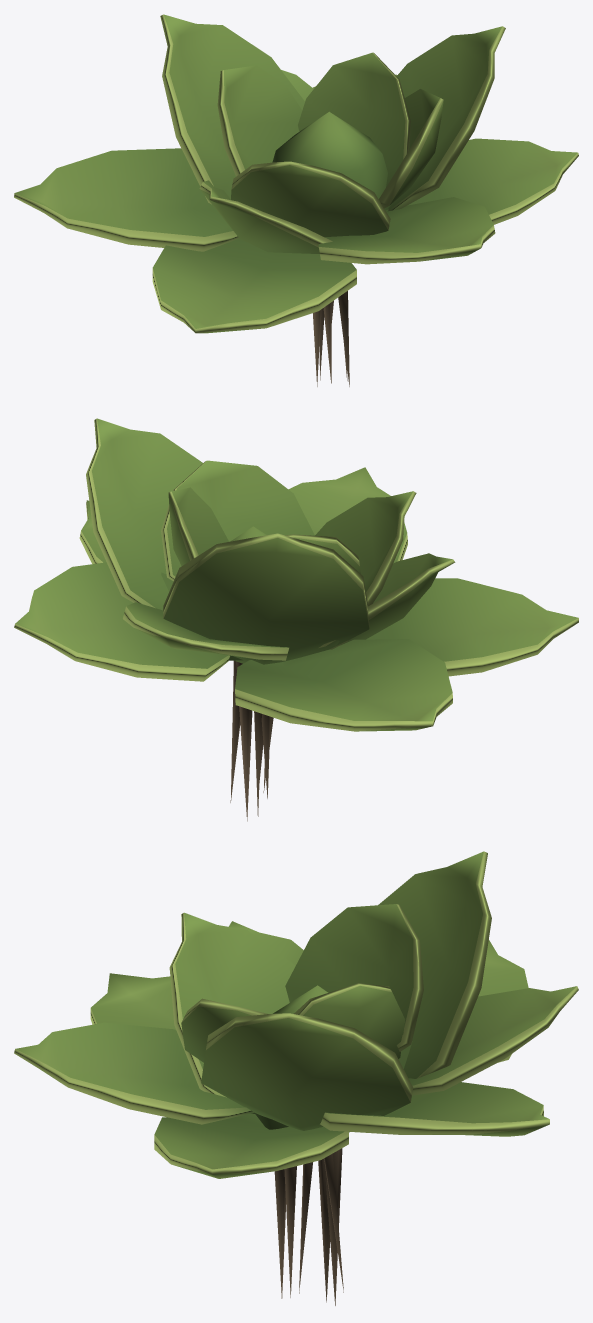
Rendered from plants-cacti-succulents-green-rosette_v3.glb.
3 views of the same model, one above another, from view 1: azimuth 30°, elevation 25°; view 2: azimuth 150°, elevation 25°; view 3: azimuth 270°, elevation 25° (orthographic). The views are drawn at different scales.
Parts seen in each view (by area): view 1: Green Rosette_v3; view 2: Green Rosette_v3; view 3: Green Rosette_v3.
Boxes of the visible parts, bbox=[...] form: Green Rosette_v3: bbox=[14, 14, 578, 386]; Green Rosette_v3: bbox=[14, 418, 578, 821]; Green Rosette_v3: bbox=[14, 851, 578, 1305].
Bounding box in the file's own units: 0.15 × 0.1104 × 0.1398.
